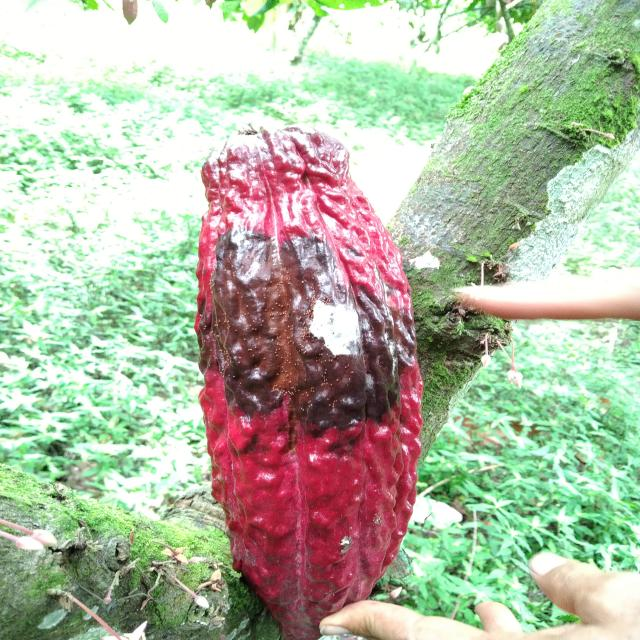Monilia: (192, 116, 428, 633)
